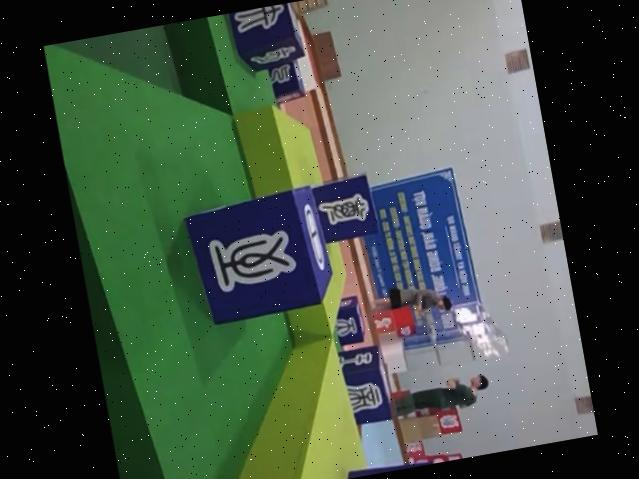R2 Fake Blue: (180, 182, 337, 327), (221, 1, 303, 75), (305, 170, 377, 242), (335, 343, 392, 426), (329, 294, 366, 346), (268, 56, 307, 105)
